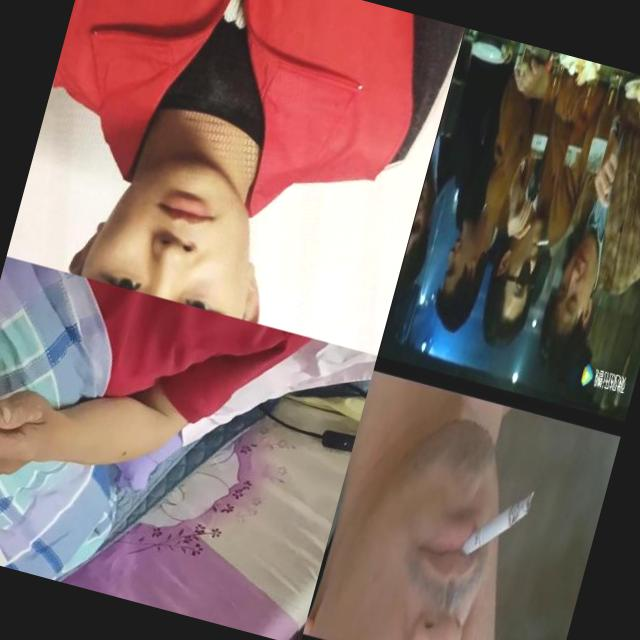smoke: (458, 475, 536, 570), (0, 424, 19, 502), (534, 234, 550, 250)
